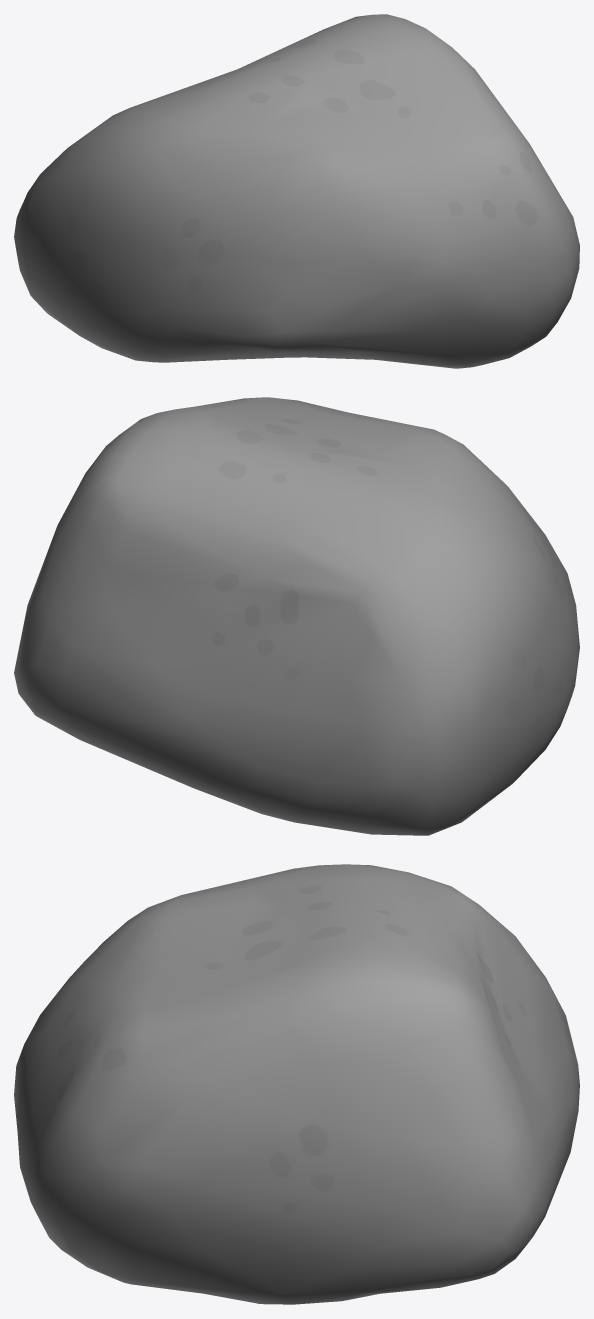
File: Peb04.fbx
3 renders of one model, top to bottom at view 1: azimuth 30°, elevation 25°; view 2: azimuth 150°, elevation 25°; view 3: azimuth 270°, elevation 25°, orthographic. The views are drawn at different scales.
Visible parts, largest first — view 1: Peb04; view 2: Peb04; view 3: Peb04.
Part boxes in pixels (box(x1,y1,x2,y2)): Peb04: box(14, 14, 579, 368); Peb04: box(14, 397, 579, 835); Peb04: box(14, 864, 579, 1304).
Size of the model in its own units: 6.3 by 3.74 by 6.08.
